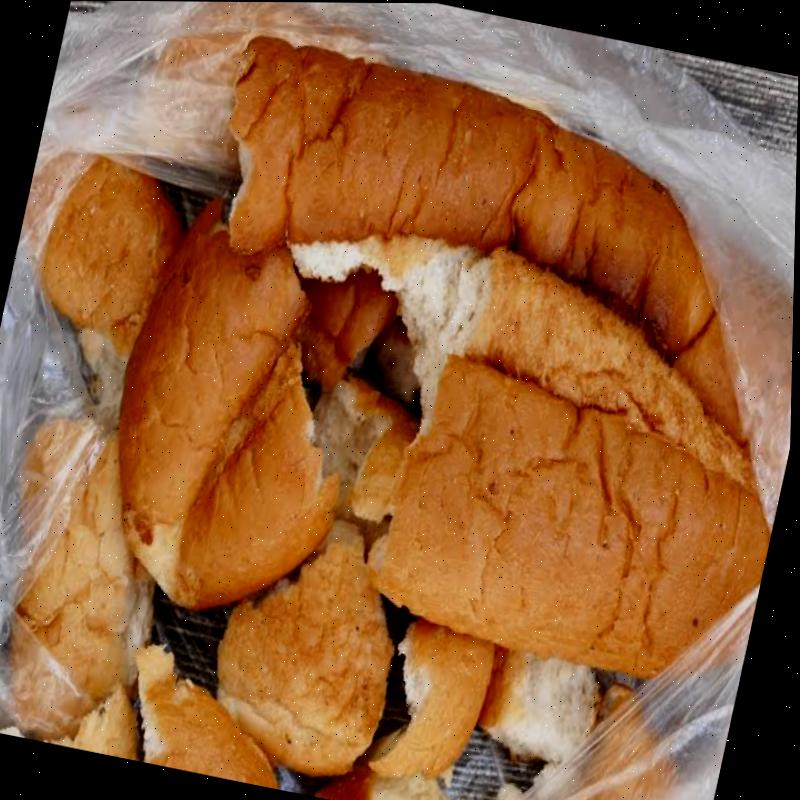left-over food: (227, 37, 770, 680), (117, 228, 338, 614), (7, 417, 154, 744), (216, 521, 393, 779), (42, 158, 181, 398), (135, 643, 278, 789), (367, 619, 495, 780), (312, 377, 421, 526)
